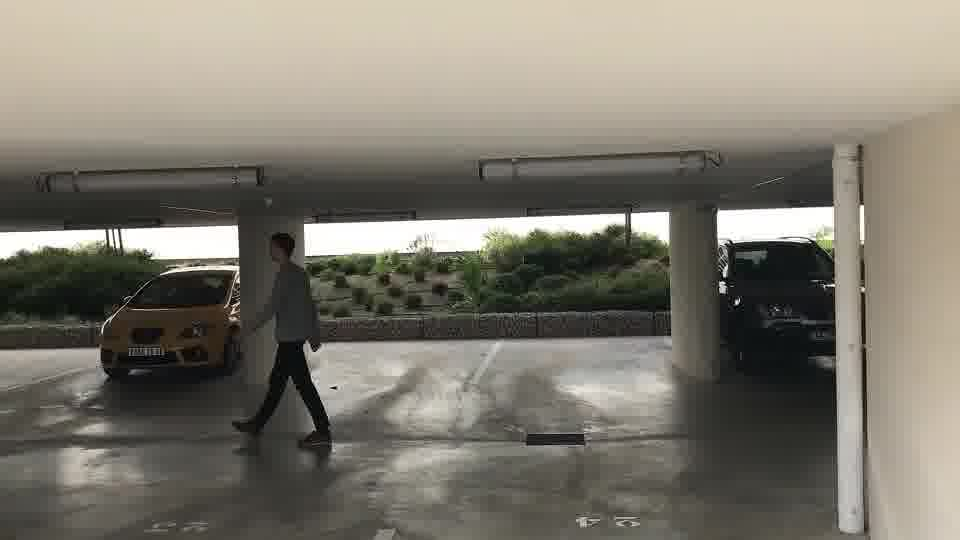jugador: (219, 229, 343, 454)
